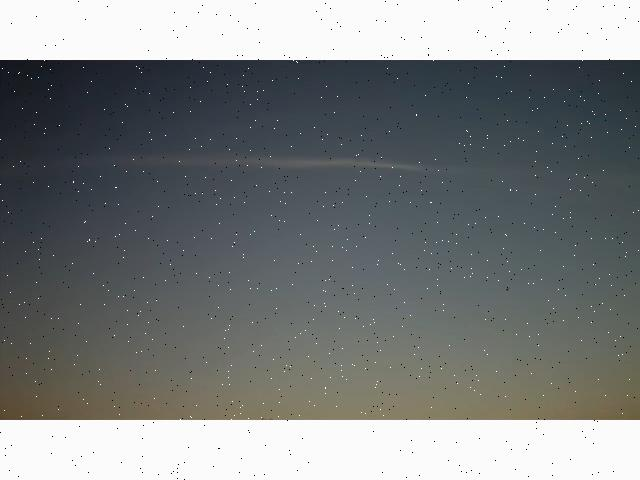Anti-Drone: (498, 280, 518, 296)
